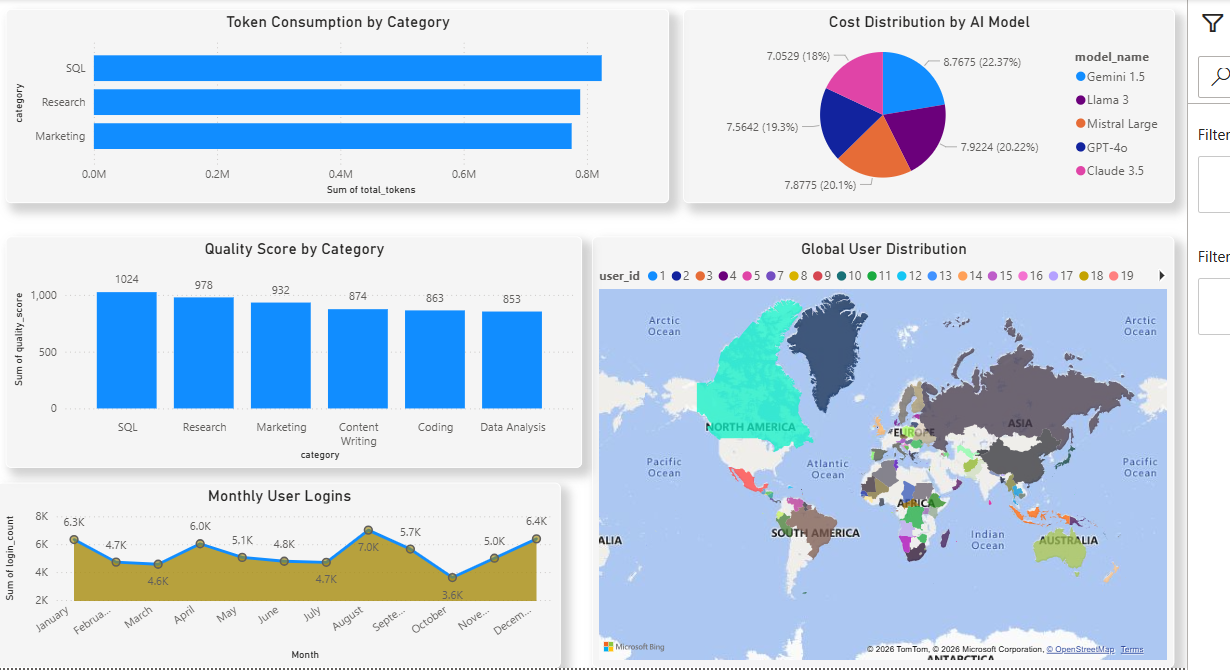

This screenshot's page, from the dashboard's own definition file:
{"tool":"powerbi","page":{"name":"Page 2","canvas":[1280,720],"ordinal":1},"visuals":[{"type":"barChart","title":"Token Consumption by Category","fields":{"Category":["Prompts.category"],"Y":["Sum(Tokens.total_tokens)"]},"box":[9.6,11,713.6,208.6],"z":0},{"type":"columnChart","title":"Quality Score by Category","fields":{"Category":["Prompts.category"],"Y":["Sum(Responses.quality_score)"]},"box":[9.4,255.5,620,248.8],"z":1000},{"type":"pieChart","title":"Cost Distribution by AI Model","fields":{"Y":["Sum(Tokens.estimated_cost_usd)"],"Category":["AI_Models.model_name"]},"box":[738.3,10.8,528.5,208.4],"z":2000},{"type":"areaChart","title":"Monthly User Logins","fields":{"Category":["Users.signup_date.Variation.Date Hierarchy.Month","Users.signup_date.Variation.Date Hierarchy.Day"],"Y":["Sum(User_Behavior_Analytics.login_count)"]},"box":[0,520.4,606.5,199],"z":3000},{"type":"filledMap","title":"Global User Distribution","fields":{"Category":["Users.country"],"Series":["User_Behavior_Analytics.user_id"]},"box":[640.1,255.5,626.7,464],"z":4000}]}

Visuals, with their boxes on the page's 1280x720 design canvas (x1, y1, x2, y2). These are canvas units, not pixel positions in the 1230x670 screenshot, which may show the page scaled, cropped or inside an application window:
"Token Consumption by Category" barChart: BBox(10, 11, 723, 220)
"Quality Score by Category" columnChart: BBox(9, 256, 629, 504)
"Cost Distribution by AI Model" pieChart: BBox(738, 11, 1267, 219)
"Monthly User Logins" areaChart: BBox(0, 520, 606, 719)
"Global User Distribution" filledMap: BBox(640, 256, 1267, 720)
